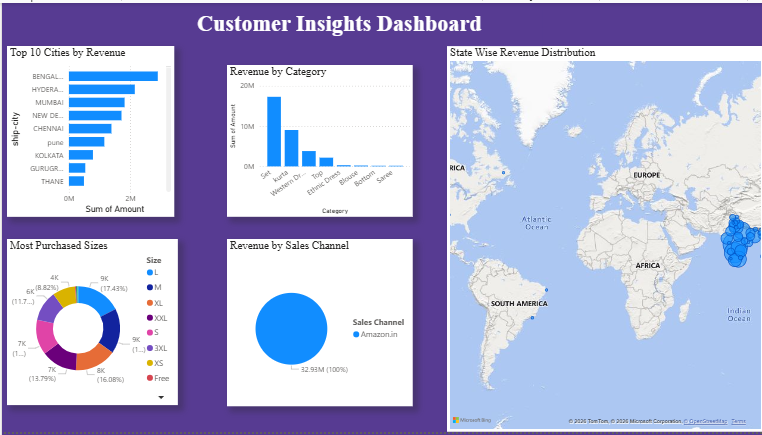

The dashboard page shown, as its layout file describes it:
{"tool":"powerbi","page":{"name":"Customer Insights","canvas":[1280,720],"ordinal":1},"visuals":[{"type":"clusteredBarChart","title":"Top 10 Cities by Revenue","fields":{"Category":["amazon_sales_db amazon sale report.ship-city"],"Y":["Sum(amazon_sales_db amazon sale report.Amount)"]},"box":[8.4,72.2,280.5,287.2],"z":0},{"type":"donutChart","title":"Most Purchased Sizes","fields":{"Category":["amazon_sales_db amazon sale report.Size"],"Y":["Sum(amazon_sales_db amazon sale report.Qty)"]},"box":[8.4,396.4,287.2,278.8],"z":1000},{"type":"pieChart","title":"Revenue by Sales Channel","fields":{"Category":["amazon_sales_db amazon sale report.Sales Channel"],"Y":["Sum(amazon_sales_db amazon sale report.Amount)"]},"box":[378,396.4,312.4,280.5],"z":2000},{"type":"map","title":"State Wise Revenue Distribution","fields":{"Category":["amazon_sales_db amazon sale report.ship-state"],"Size":["Sum(amazon_sales_db amazon sale report.Amount)"]},"box":[747.5,72.2,532.5,648.4],"z":3000},{"type":"textbox","box":[322.5,8.4,584.6,63.8],"z":4000},{"type":"clusteredColumnChart","title":"Revenue by Category","fields":{"Y":["Sum(amazon_sales_db amazon sale report.Amount)"],"Category":["amazon_sales_db amazon sale report.Category"]},"box":[378,104.1,312.4,255.3],"z":5000}]}

Visuals, with their boxes in screenshot pixels (x1, y1, x2, y2), scaled from the page's 1280x720 canvas onto the 762x435 screenshot:
"Top 10 Cities by Revenue" clusteredBarChart: <box>5,44,172,217</box>
"Most Purchased Sizes" donutChart: <box>5,239,176,408</box>
"Revenue by Sales Channel" pieChart: <box>225,239,411,409</box>
"State Wise Revenue Distribution" map: <box>445,44,761,434</box>
textbox: <box>192,5,540,44</box>
"Revenue by Category" clusteredColumnChart: <box>225,63,411,217</box>
